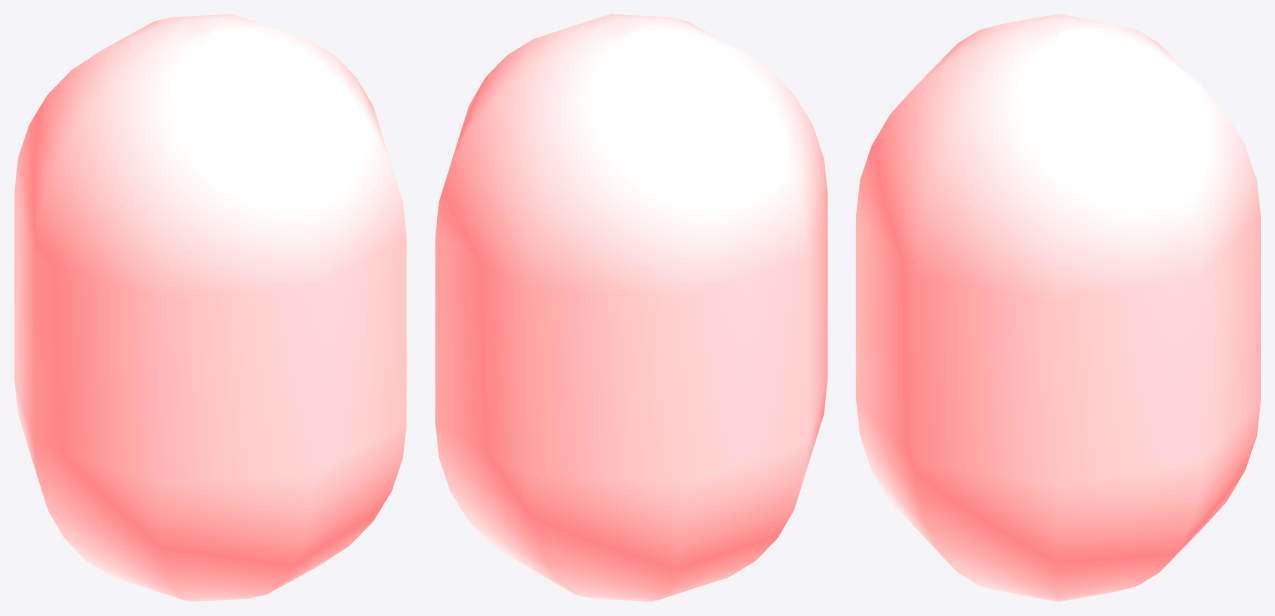
The model's file is other.gltf.
3 views of the same model, side by side, from view 1: azimuth 30°, elevation 25°; view 2: azimuth 150°, elevation 25°; view 3: azimuth 270°, elevation 25° (orthographic).
Visible parts, largest first — view 1: Capsule; view 2: Capsule; view 3: Capsule.
Part boxes in pixels (box(x1,y1,x2,y2)): Capsule: box(14, 14, 406, 601); Capsule: box(435, 14, 827, 601); Capsule: box(856, 14, 1260, 601).
Size of the model in its own units: 2 by 3 by 2.
